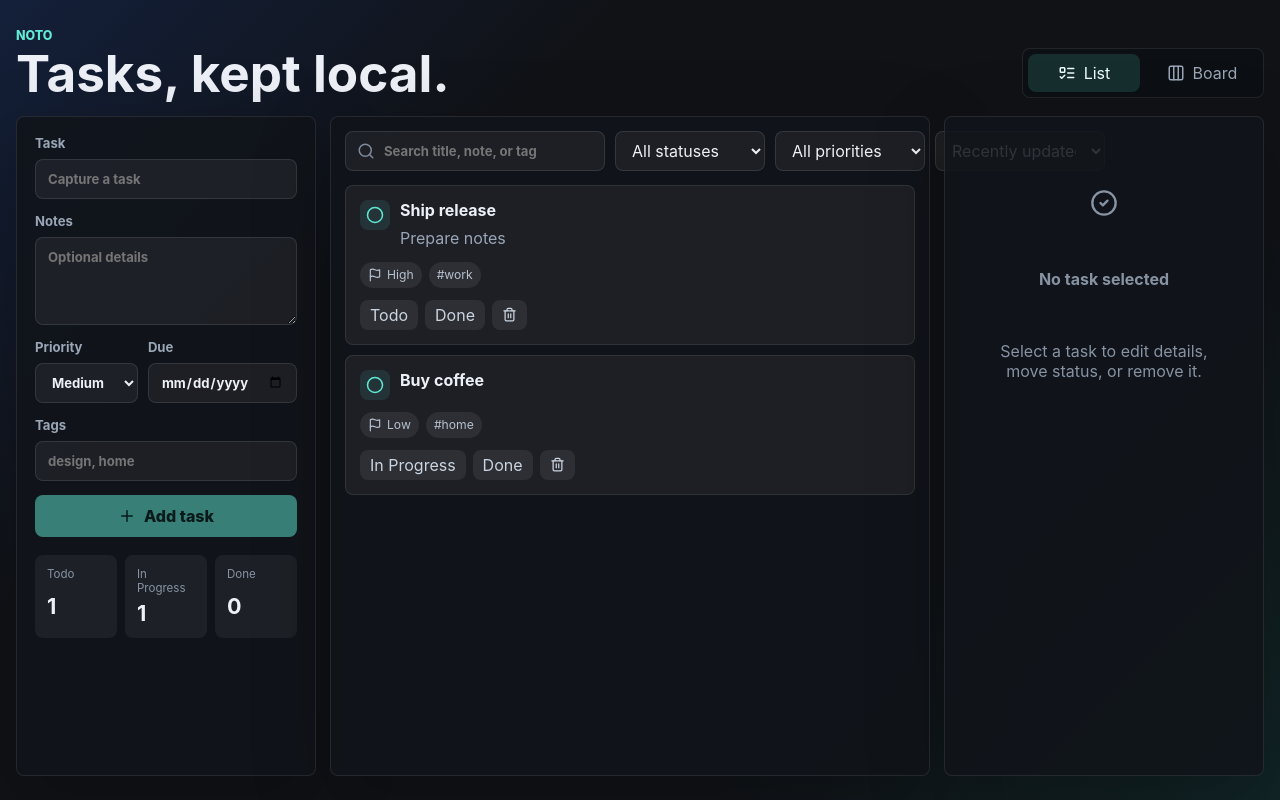
App › filters visible tasks by search text
Expected: the heading "Ship release" is shown, x1=400 y1=200 x2=496 y2=220
Type "coffee" into the field with placeholder "Search title, note, or tag" at (475, 151), box x1=345 y1=131 x2=605 y2=171
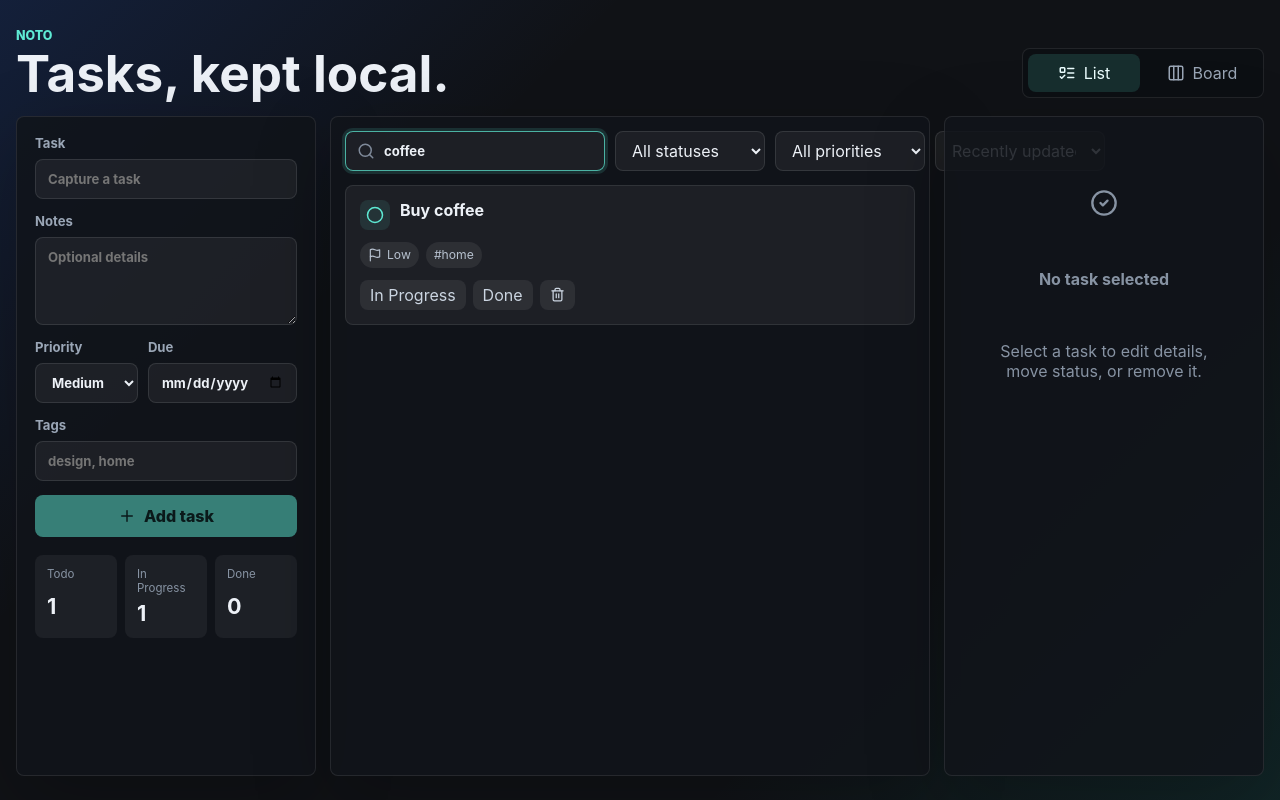
Expected: the heading "Buy coffee" is shown, x1=400 y1=200 x2=484 y2=220
Expected: the heading "Ship release" is gone
